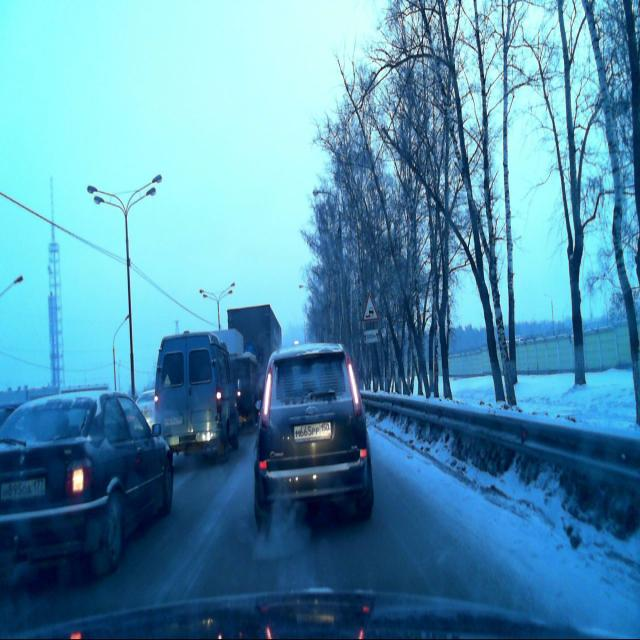road sign: (362, 294, 378, 323), (364, 328, 378, 344)
